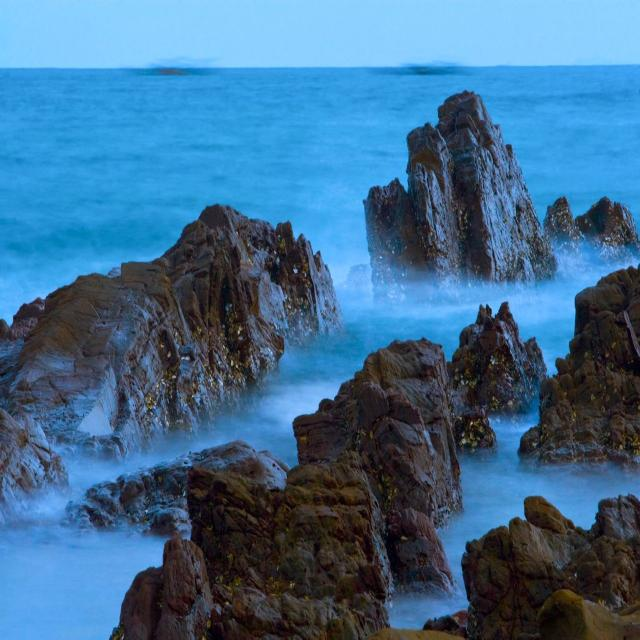reef: (362, 314, 640, 608), (46, 209, 333, 454), (365, 131, 640, 279)
